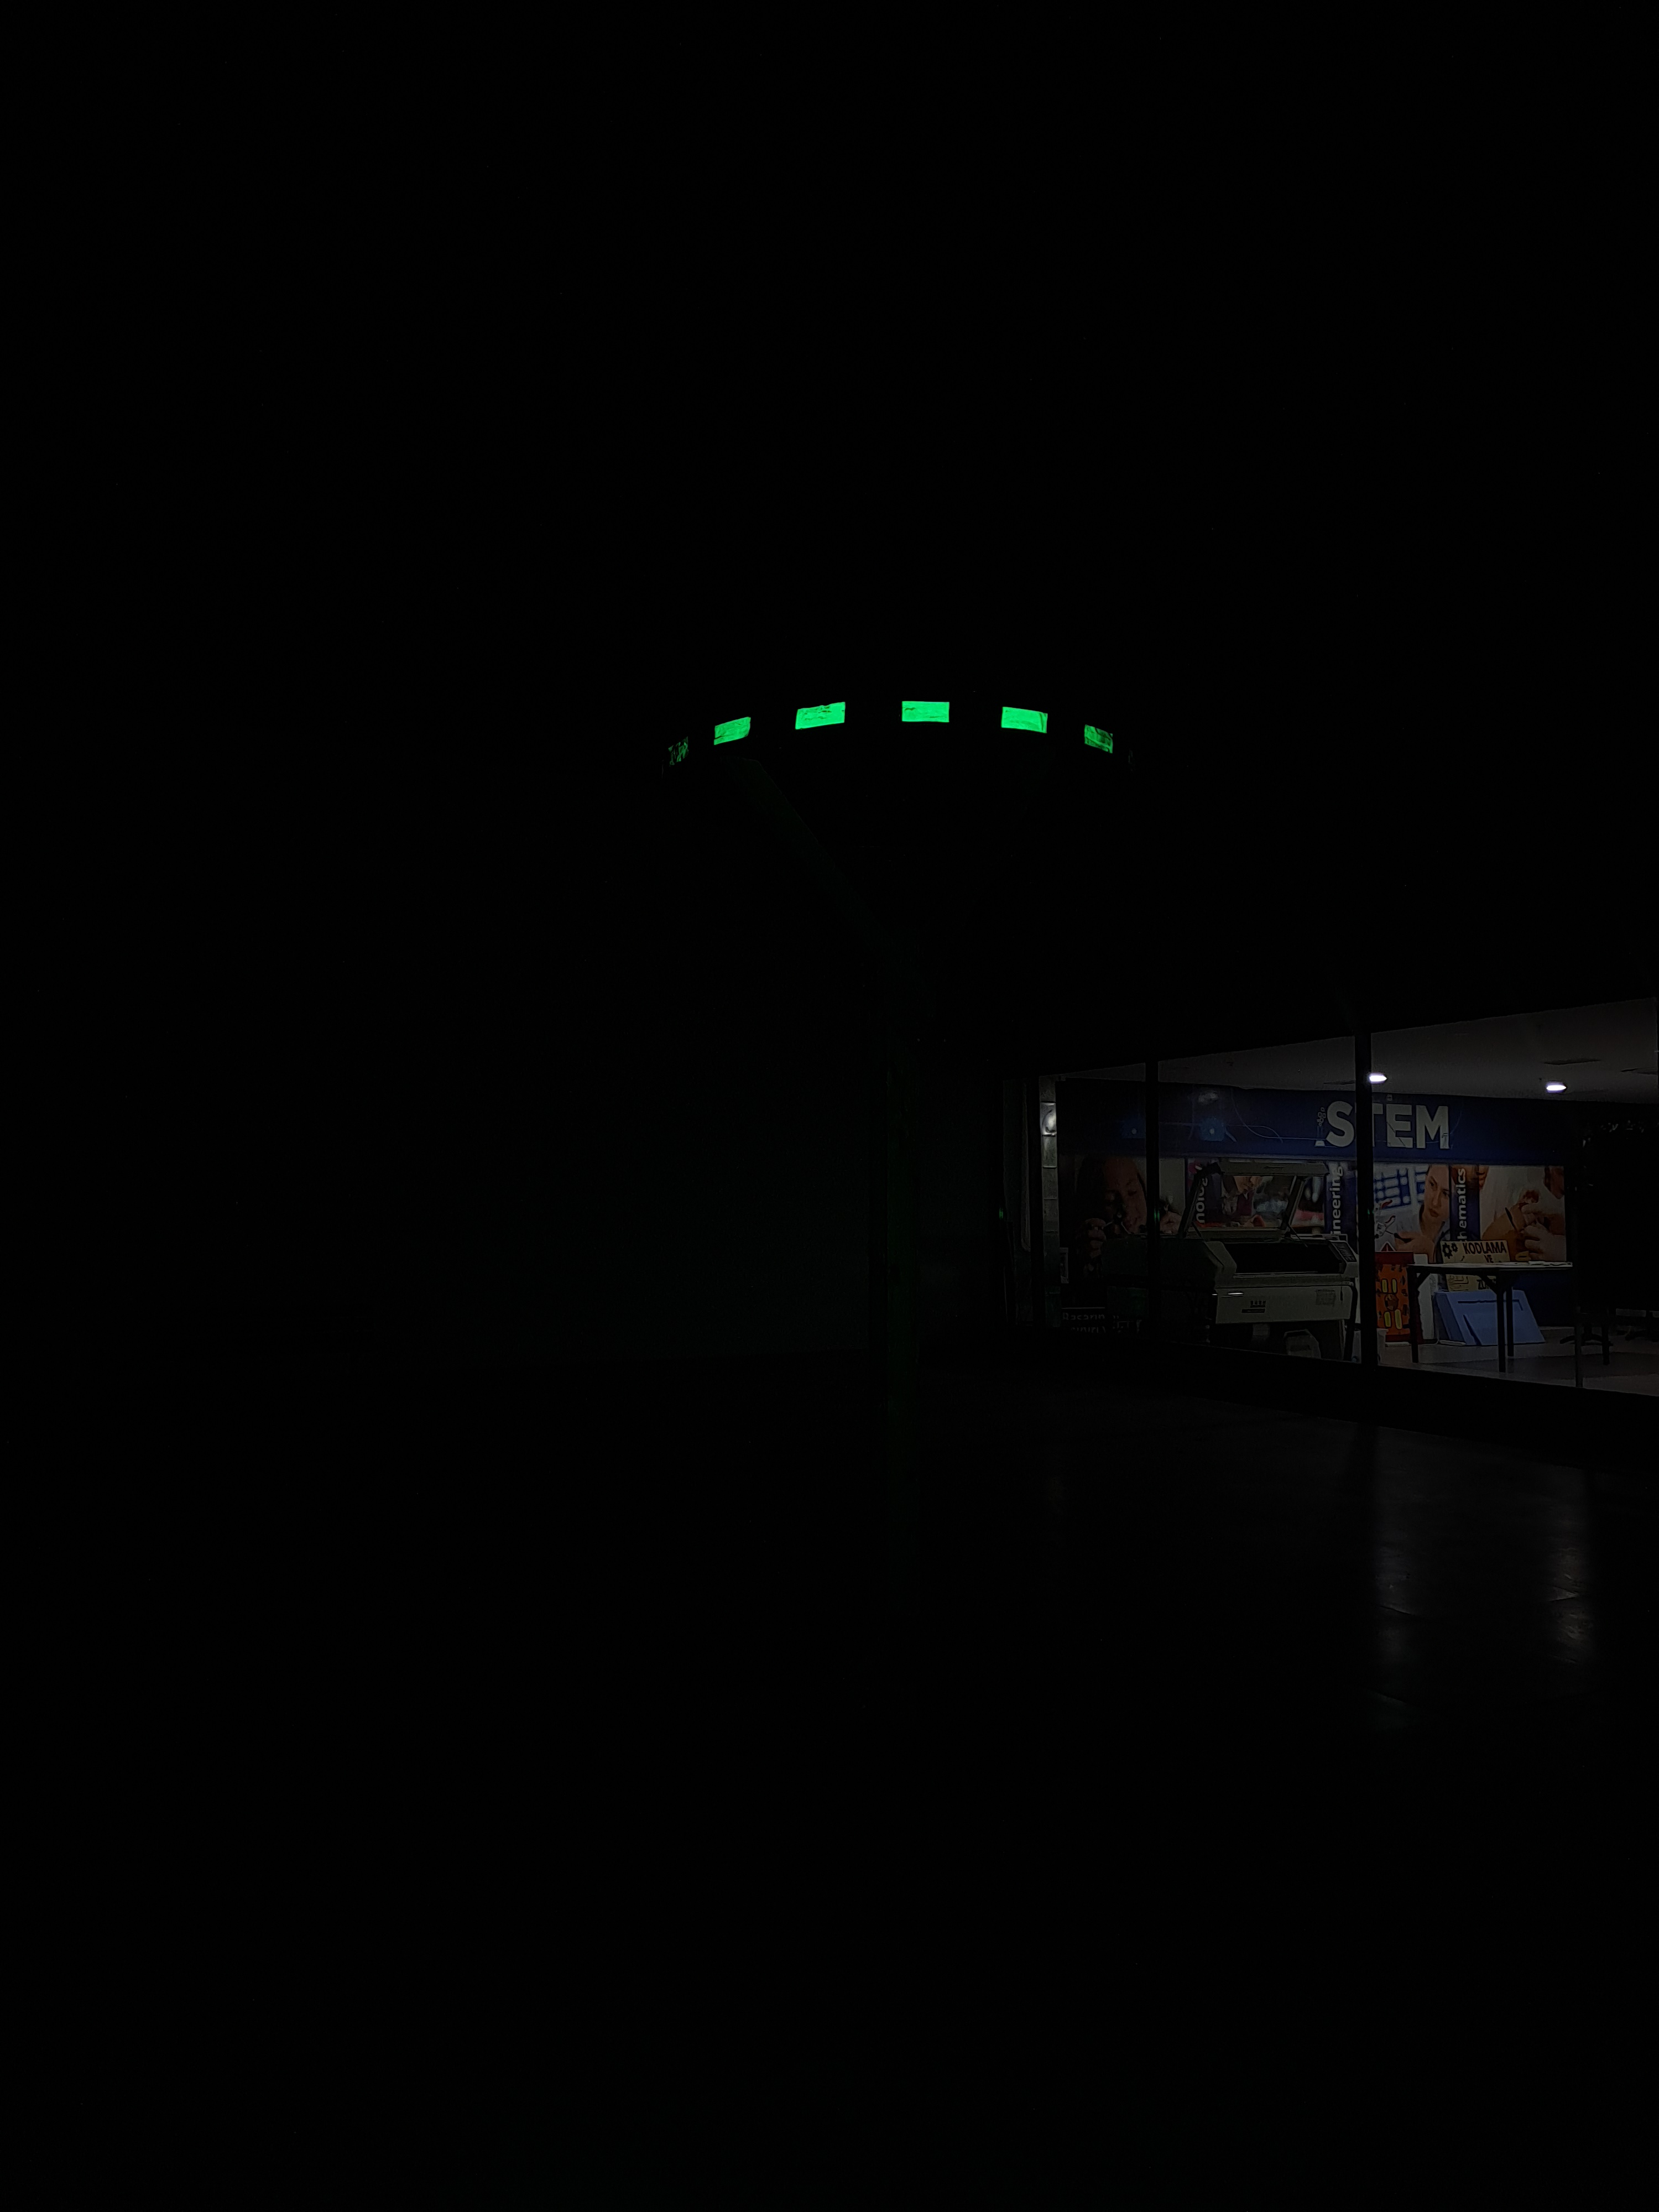hoop: (657, 695, 1117, 779)
